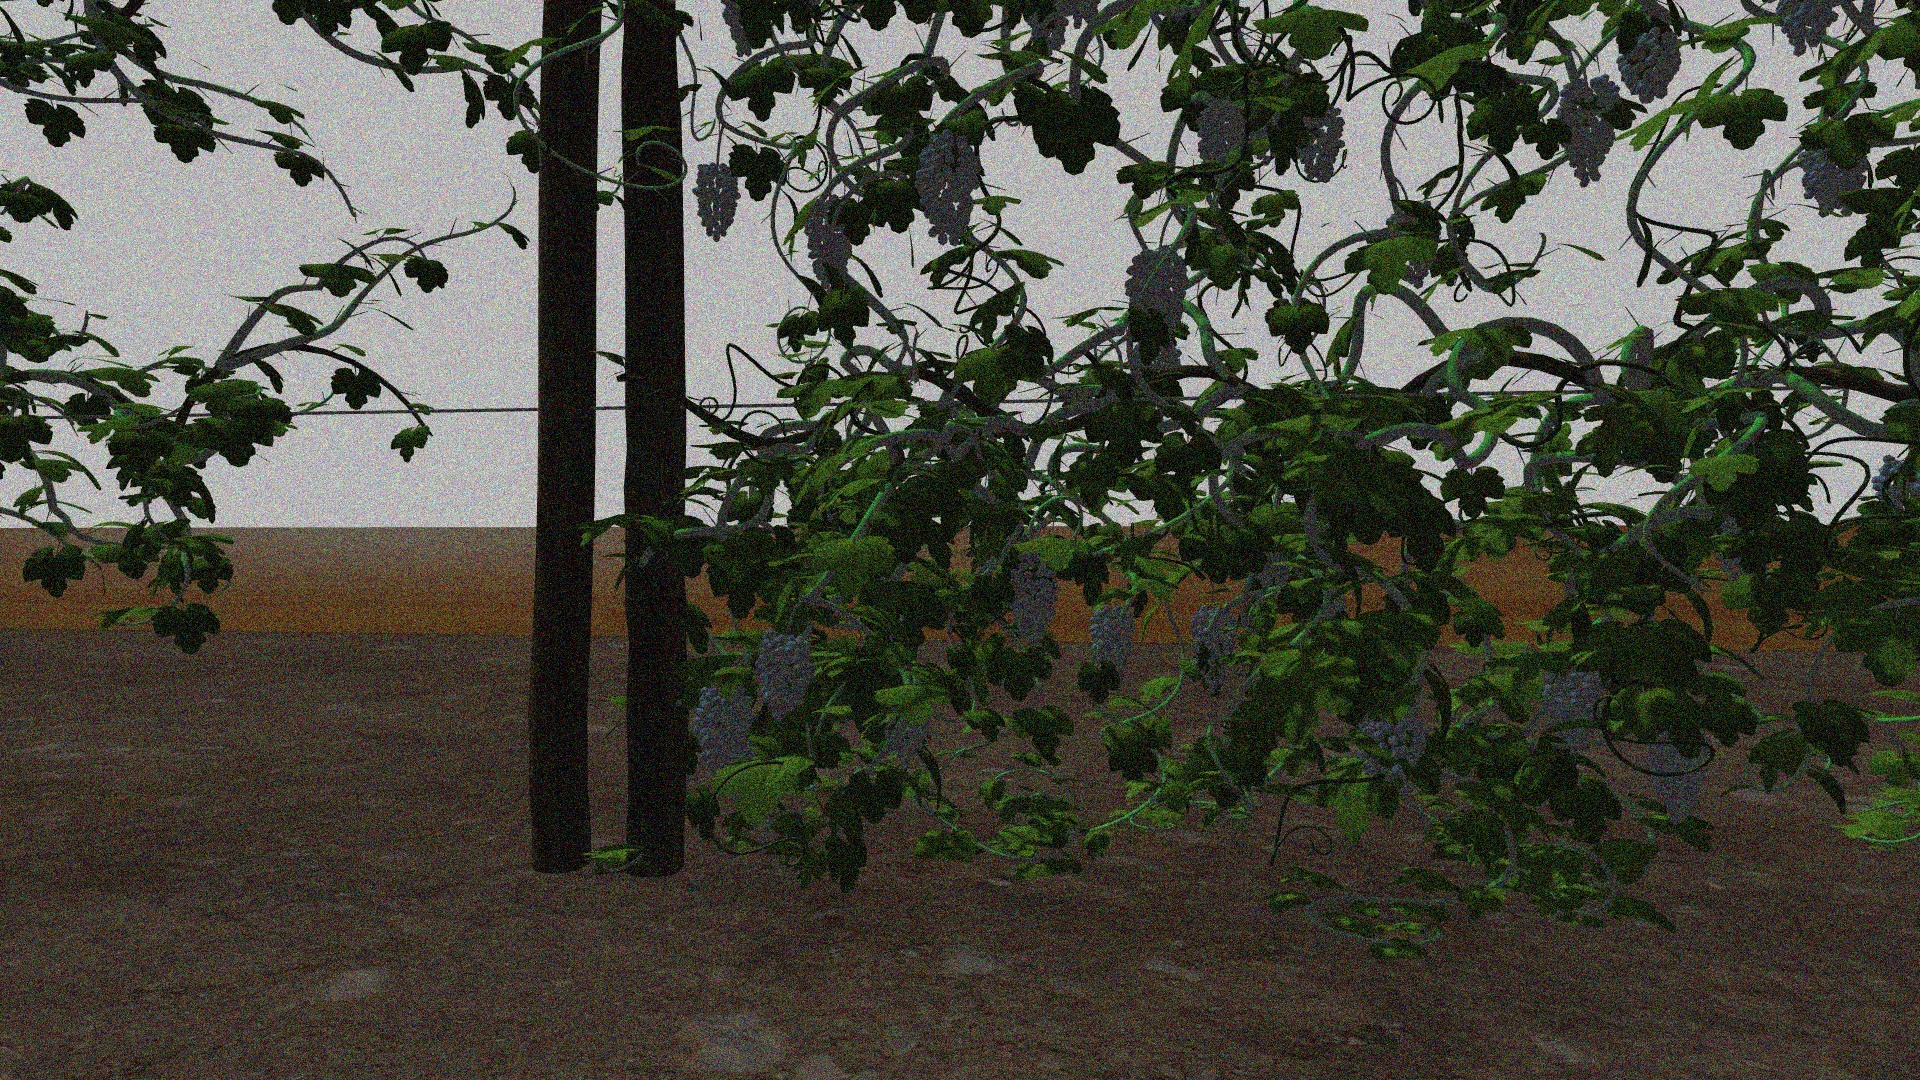grape: (1556, 78, 1625, 187), (916, 132, 981, 244), (1644, 736, 1714, 822), (1799, 135, 1869, 218), (1124, 243, 1188, 332), (1540, 669, 1609, 750), (694, 684, 756, 773), (756, 632, 816, 721), (1006, 559, 1062, 650), (1360, 715, 1429, 785), (1621, 32, 1687, 105), (691, 158, 745, 245), (803, 194, 857, 280), (1189, 604, 1236, 696), (1299, 99, 1346, 183), (1196, 102, 1251, 167), (1087, 601, 1135, 673), (887, 711, 934, 767)
